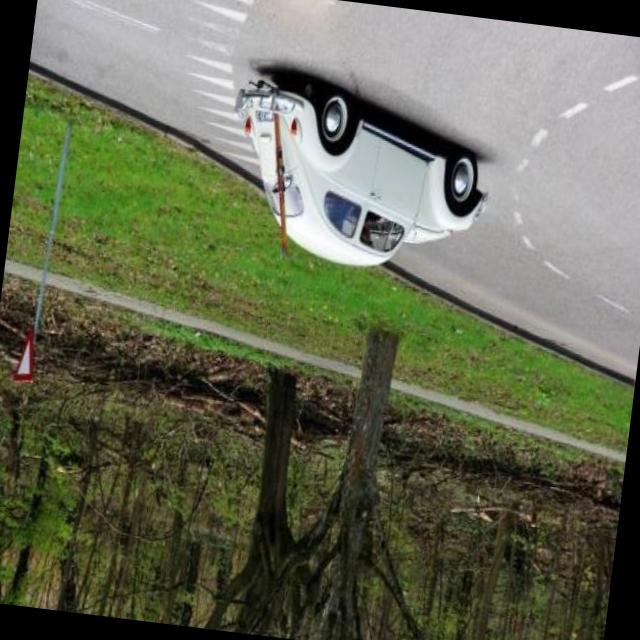car: (221, 74, 494, 282)
